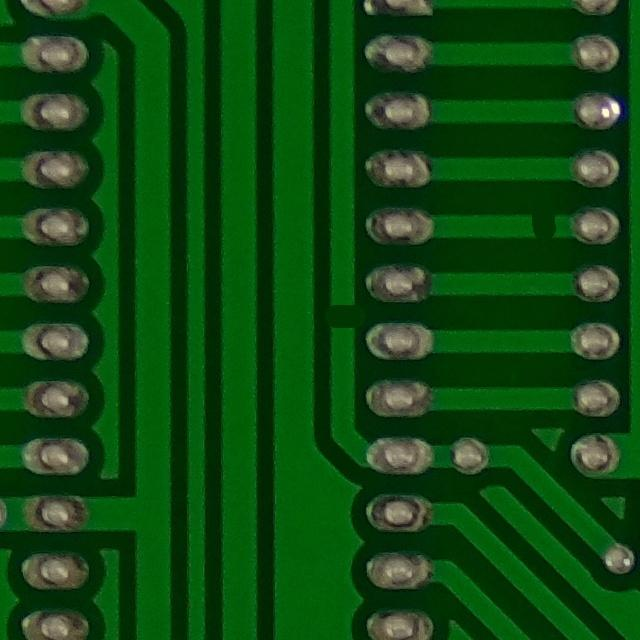open_circuit: (516, 200, 564, 250), (322, 292, 364, 338)
